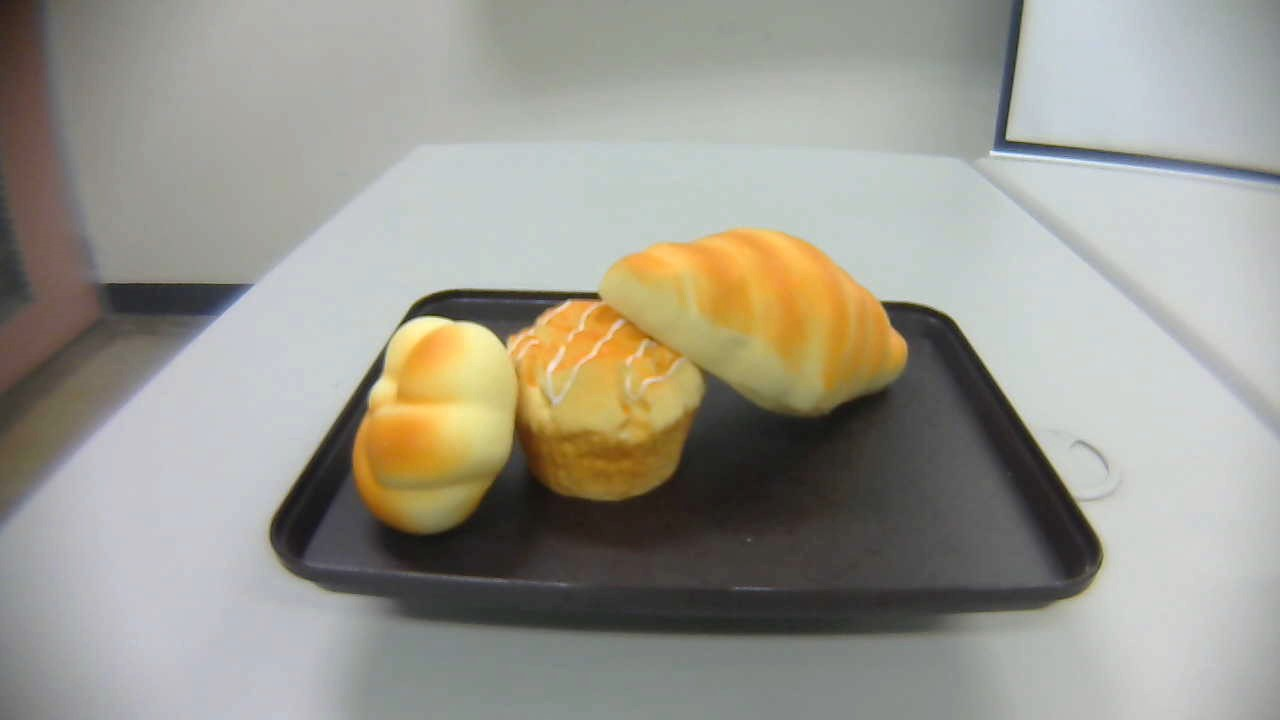croissant: (598, 227, 907, 418)
cupcake: (507, 297, 706, 501)
twist bread: (351, 313, 519, 538)
